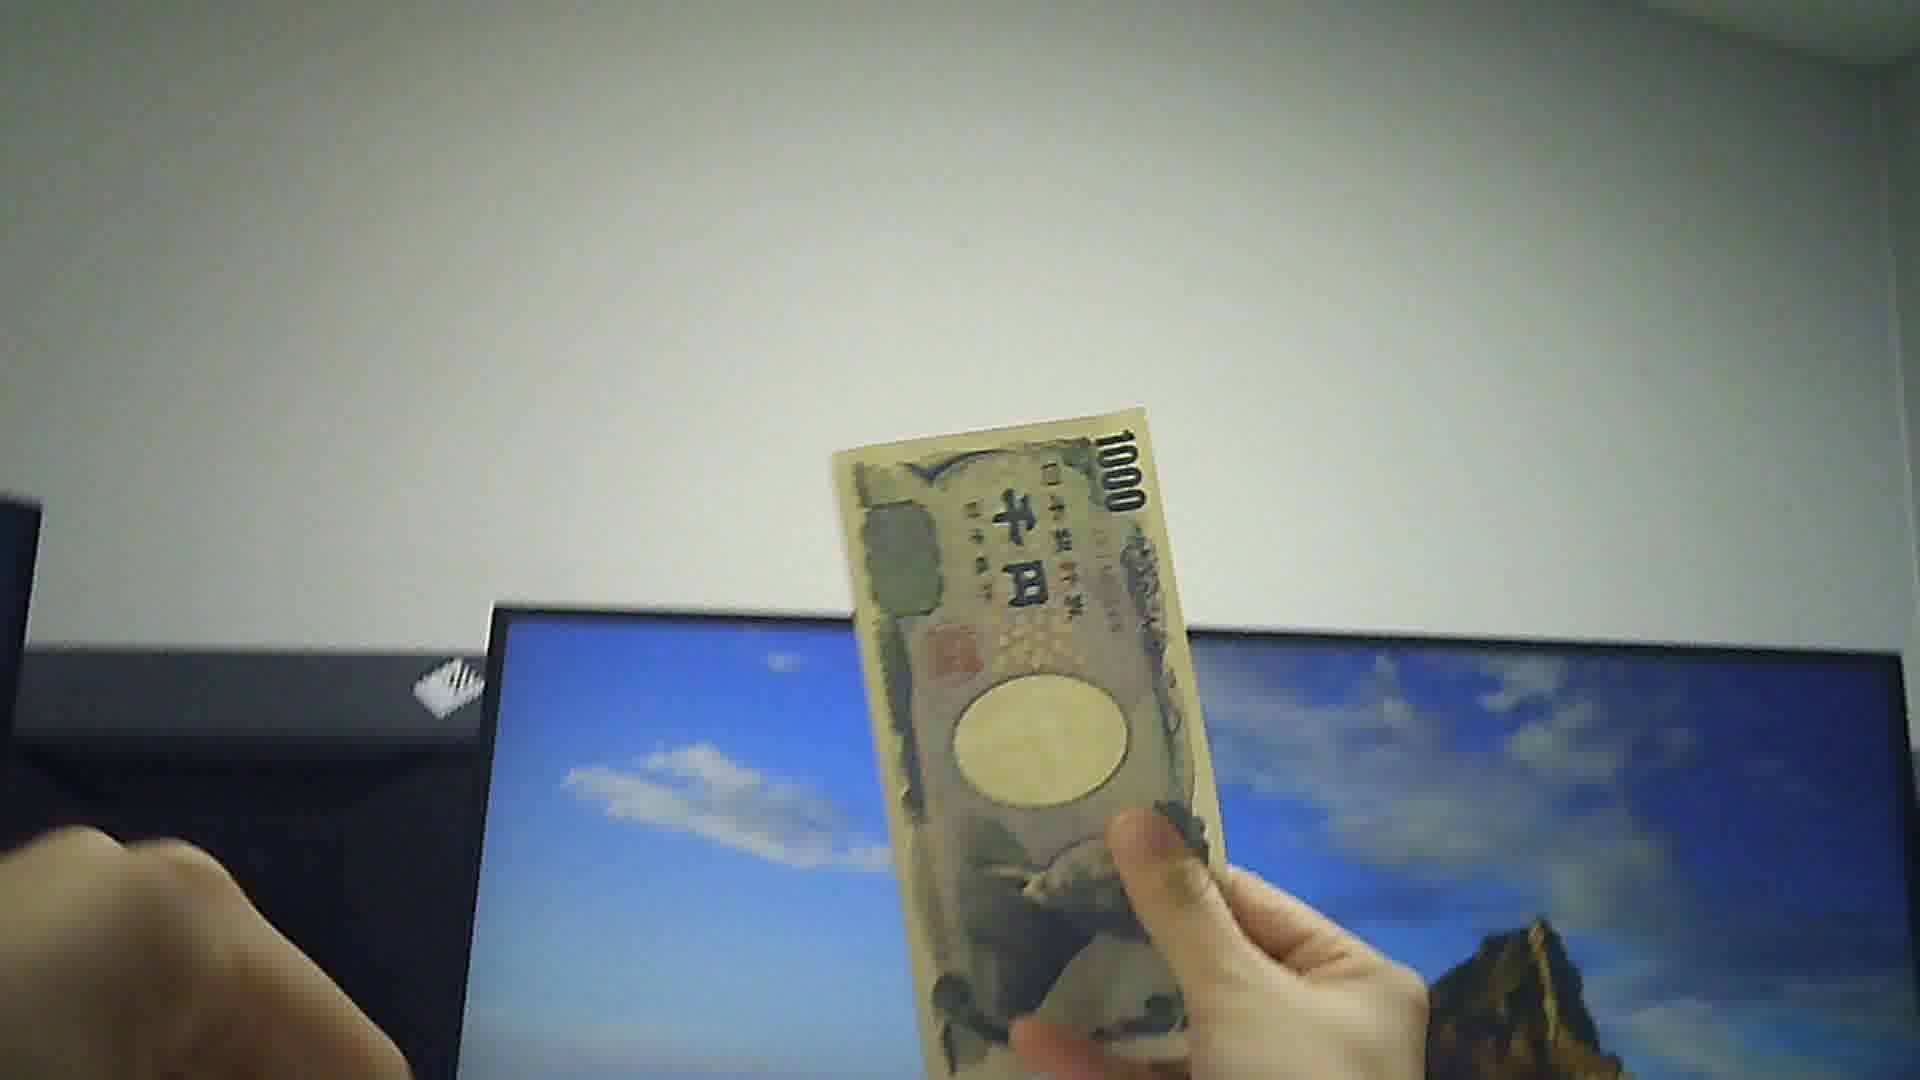1,000 Yen: (824, 396, 1251, 1079)
